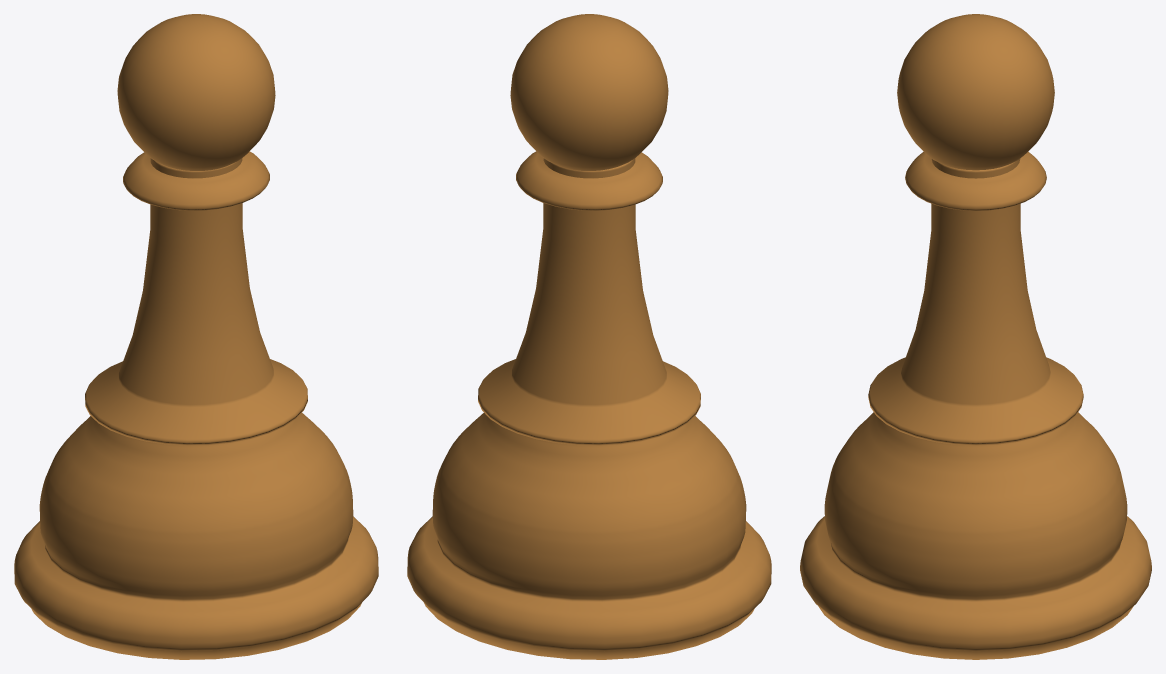
Rendered from gercek3_p_w.glb.
3 renders of one model, left to right at view 1: azimuth 30°, elevation 25°; view 2: azimuth 150°, elevation 25°; view 3: azimuth 270°, elevation 25°, orthographic.
Visible parts, largest first — view 1: Object_10; view 2: Object_10; view 3: Object_10.
Boxes of the visible parts, x1,y1,x2,y2 form: Object_10: [14, 14, 378, 659]; Object_10: [407, 14, 771, 659]; Object_10: [800, 14, 1151, 659].
Size of the model in its own units: 1.17 by 1.99 by 1.12.
